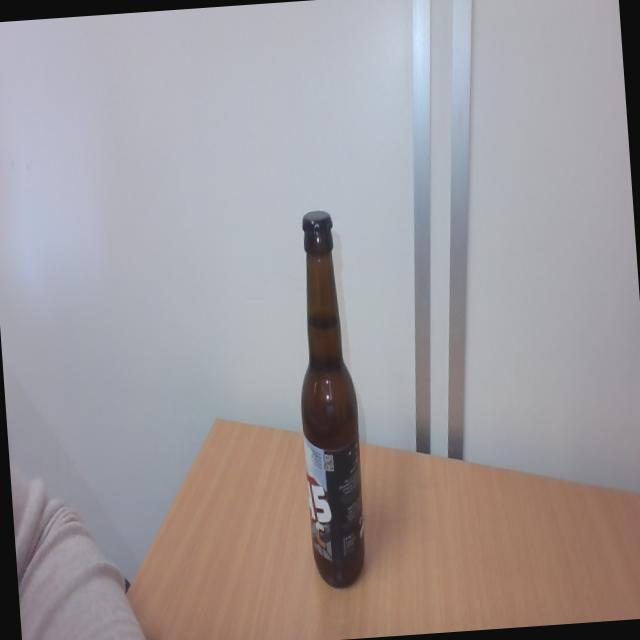Bottle: (288, 237, 370, 588)
Cap: (298, 203, 336, 240)
Label: (300, 428, 370, 566)
